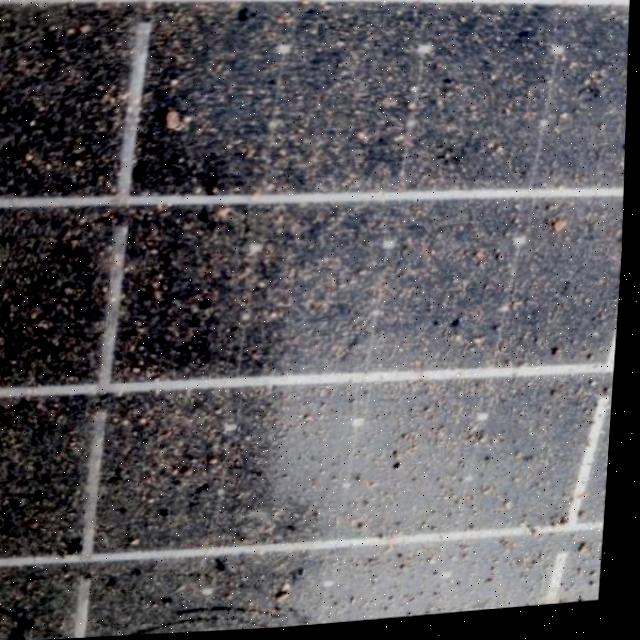Anomaly Solar Panel: (0, 0, 640, 640)
Surface Contaminant: (0, 55, 565, 640)
